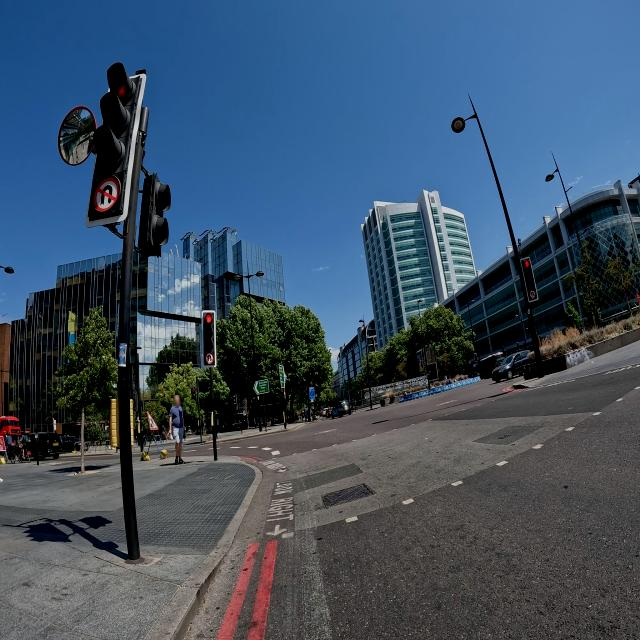car: (491, 352, 528, 381), (27, 431, 61, 460), (59, 434, 77, 452), (341, 400, 351, 416), (232, 416, 242, 432), (329, 405, 340, 419), (321, 406, 330, 416)
